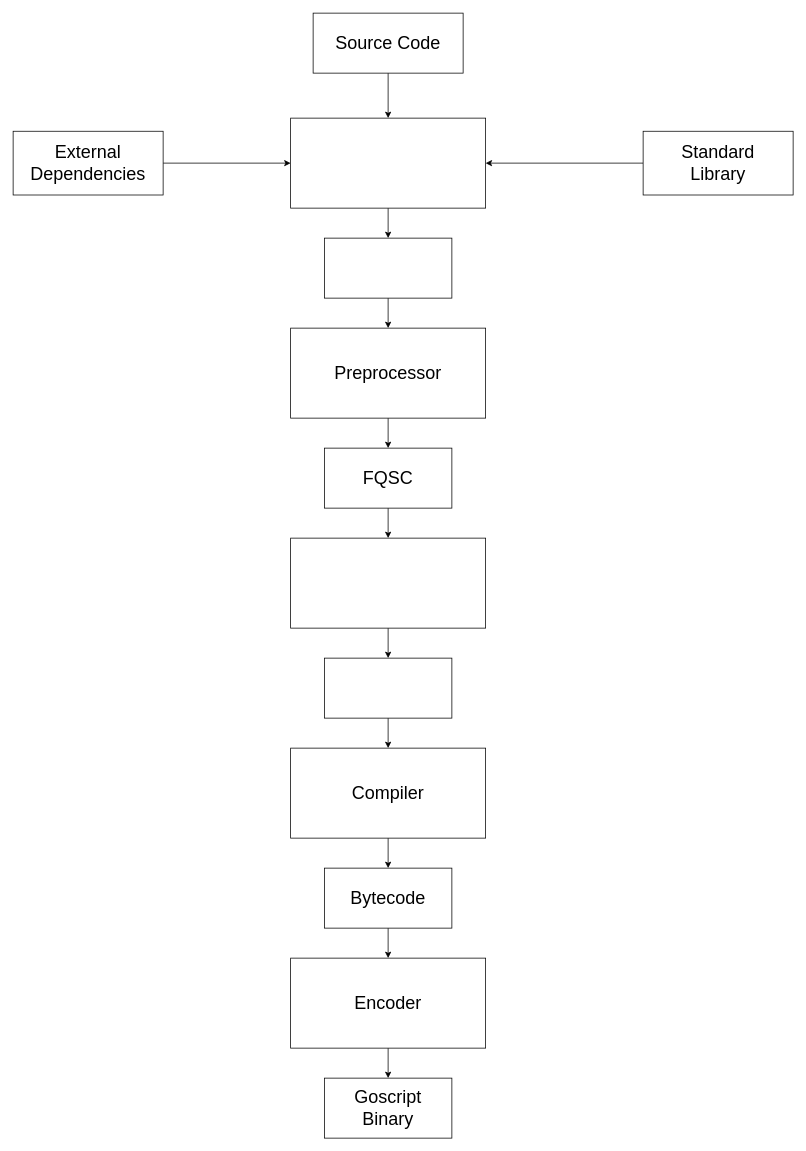
The diagram is 806 pixels wide and 1151 high, and some of its shapes have lost their labels. Each missing label, with the box of its shape:
Dependency Resolver: (290, 117, 486, 208)
Intermediate Representation: (324, 657, 452, 718)
Module Bundle: (324, 237, 452, 298)
Parser: (290, 537, 486, 628)
